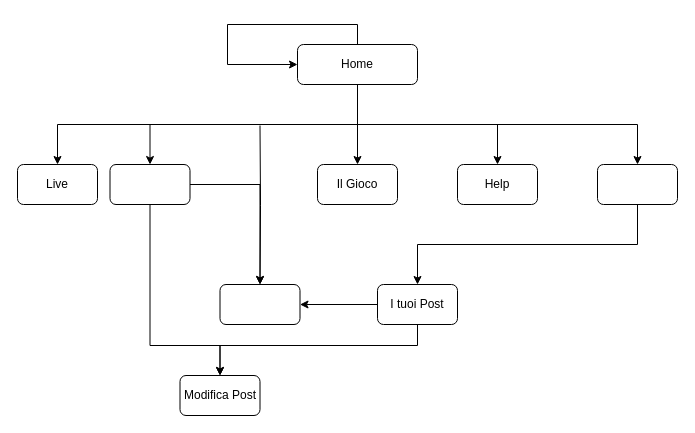
Some shapes in this 695 by 433 pixel diagram are drawn without their labels. Here are the shapes that lost their labels. From the top down, the box of each, then its label:
(109, 164, 190, 204): Bacheca
(596, 164, 678, 204): Profilo
(219, 284, 300, 324): Pubblica Post
